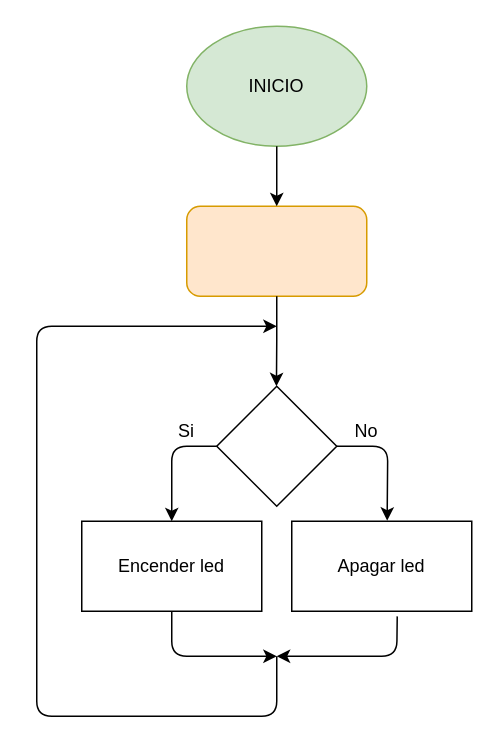
The diagram is 498 pixels wide and 755 high, and some of its shapes have lost their labels. The centre of each missing label's shape, as x and y in pixels:
"Inicialización de las variables" belongs at point (276, 250).
"¿Está pulsado?" belongs at point (276, 445).
